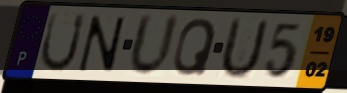5: (262, 21, 307, 80)
N: (76, 14, 127, 75)
Q: (171, 16, 219, 79)
U: (126, 11, 182, 80), (216, 15, 272, 82), (38, 10, 89, 74)
